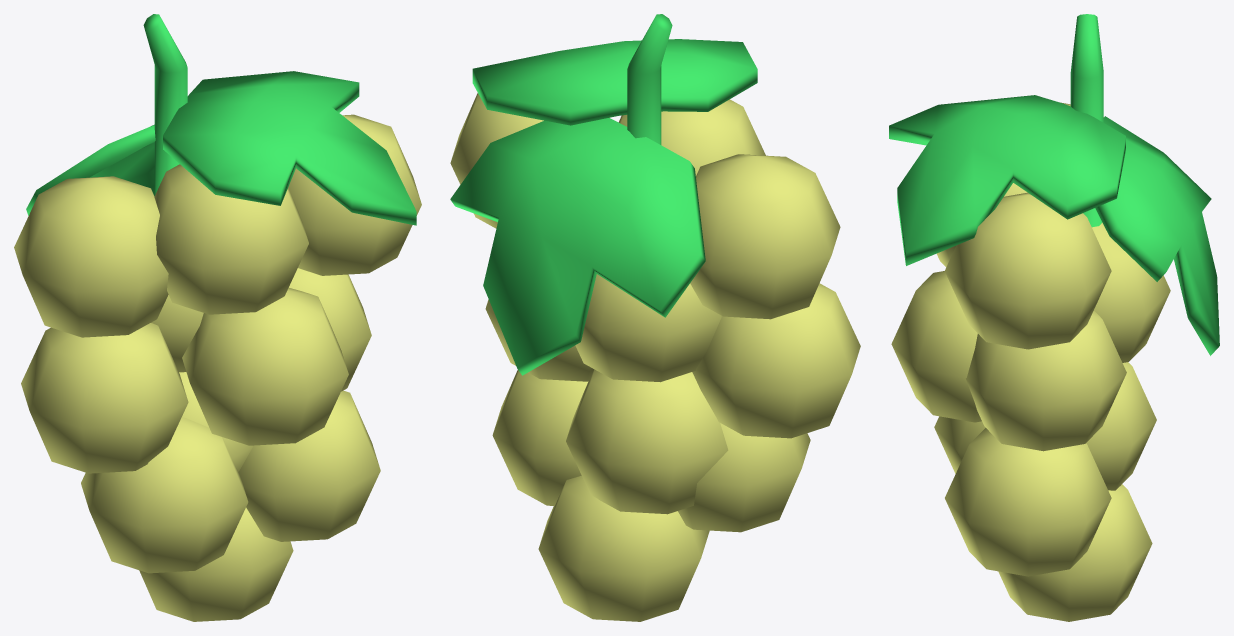
The model's file is uva_bianca.fbx.
The picture shows the model from 3 angles, left to right: view 1: azimuth 30°, elevation 25°; view 2: azimuth 150°, elevation 25°; view 3: azimuth 270°, elevation 25°; orthographic projection. The views are drawn at different scales.
Visible parts, largest first — view 1: uva_bianca; view 2: uva_bianca; view 3: uva_bianca.
Boxes of the visible parts, x1,y1,x2,y2 form: uva_bianca: (14,14,421,621); uva_bianca: (450,14,860,621); uva_bianca: (889,14,1219,621).
Size of the model in its own units: 138 by 209 by 107.
